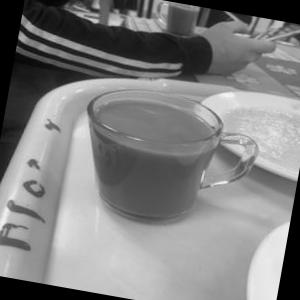coffee: (67, 66, 271, 253)
porridge: (201, 73, 300, 188)
